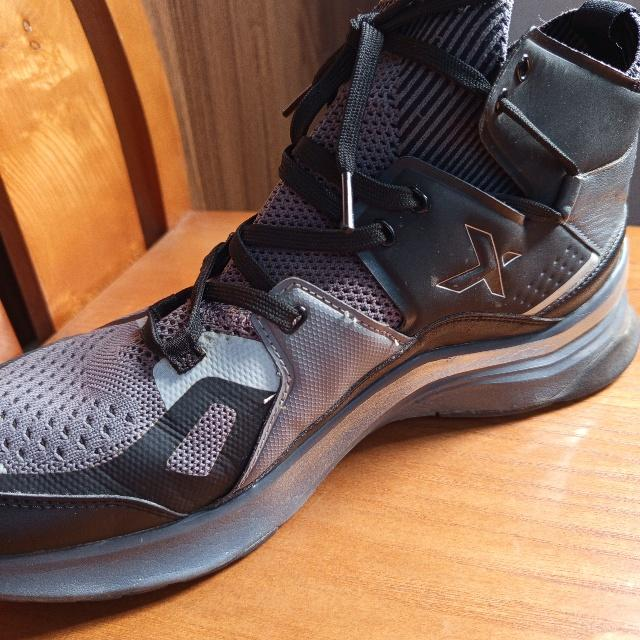broken: (342, 307, 360, 327)
